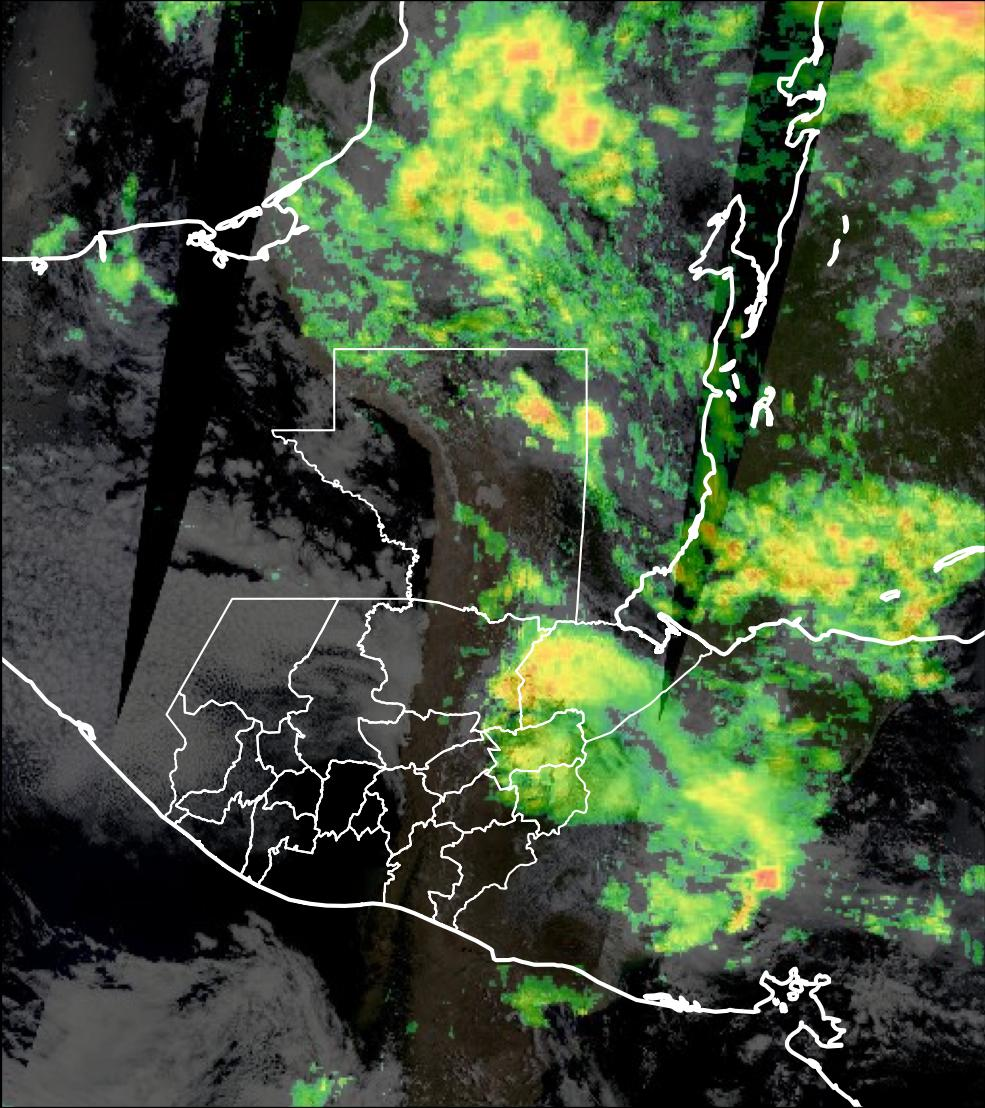precipitacion: (894, 2, 985, 78), (544, 83, 621, 162), (733, 854, 783, 940)
